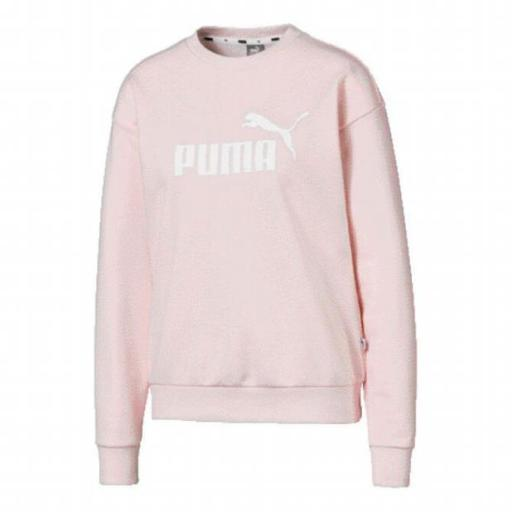Puma: (240, 106, 312, 164)
